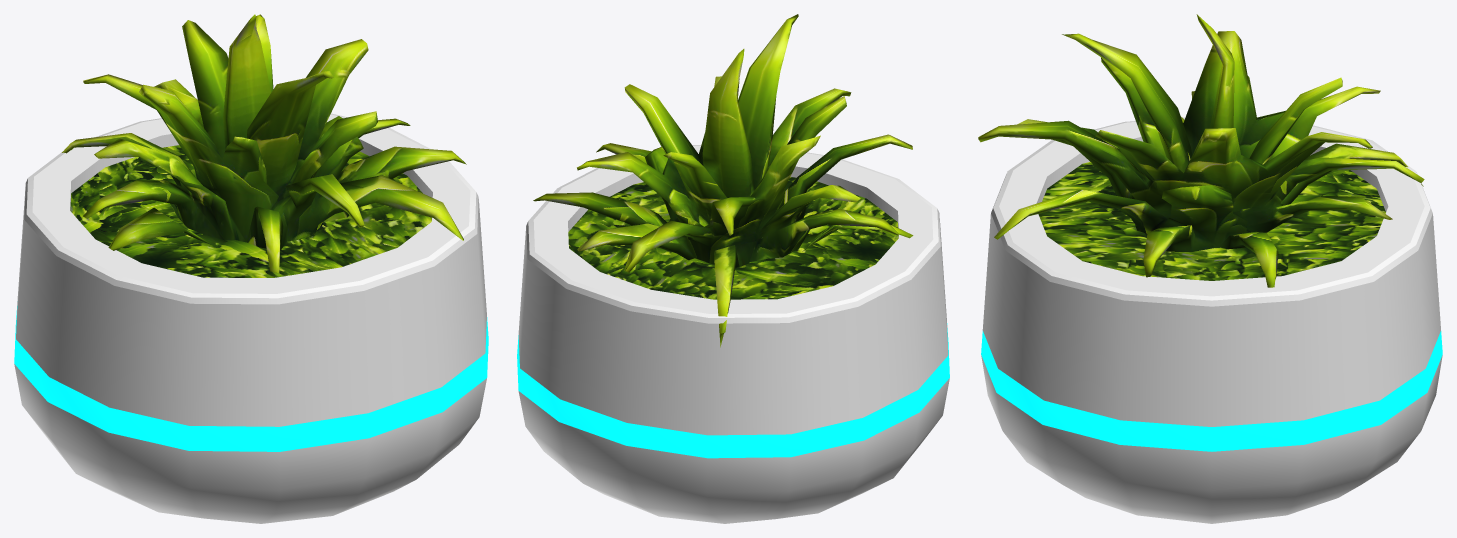
The model's file is DeskPlant.fbx.
3 views of the same model, side by side, from view 1: azimuth 30°, elevation 25°; view 2: azimuth 150°, elevation 25°; view 3: azimuth 270°, elevation 25° (orthographic). The views are drawn at different scales.
Visible parts, largest first — view 1: DeskPlant, DeskPlantPlant; view 2: DeskPlant, DeskPlantPlant; view 3: DeskPlant, DeskPlantPlant.
Boxes of the visible parts, bbox=[...] form: DeskPlant: bbox=[14, 113, 488, 523]; DeskPlantPlant: bbox=[62, 14, 466, 277]; DeskPlant: bbox=[517, 145, 949, 523]; DeskPlantPlant: bbox=[533, 14, 913, 347]; DeskPlant: bbox=[981, 117, 1442, 523]; DeskPlantPlant: bbox=[978, 14, 1424, 287].
Size of the model in its own units: 10 by 10.86 by 10.06.
Materials: 2 (2 with a texture image).
